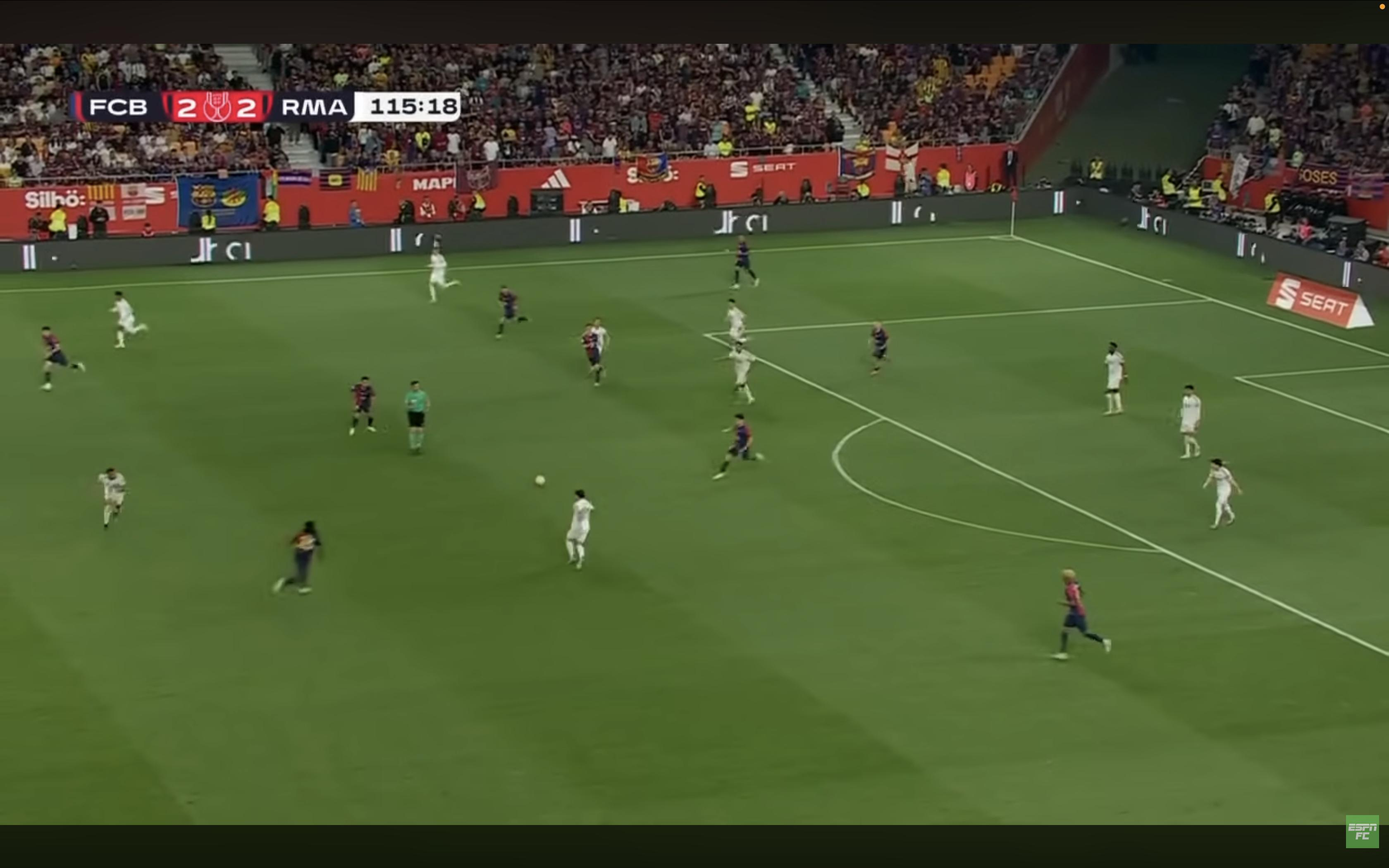ball: (534, 475, 546, 487)
player: (1053, 569, 1111, 661), (273, 521, 322, 594), (713, 413, 763, 480), (41, 326, 86, 391), (1203, 458, 1242, 529), (716, 342, 756, 404), (566, 489, 594, 569), (111, 291, 148, 348), (581, 318, 609, 386), (496, 285, 528, 339), (1179, 385, 1202, 459), (98, 468, 126, 528), (1105, 342, 1127, 415), (349, 377, 376, 435), (429, 250, 458, 303), (731, 236, 759, 289), (726, 298, 747, 343), (870, 323, 888, 375)
referee: (405, 381, 430, 453)
